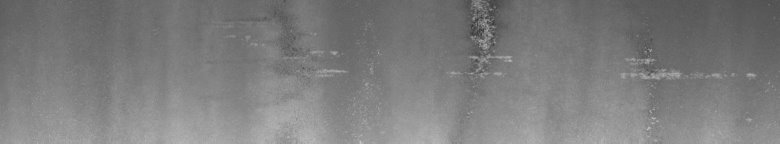hc: (451, 4, 512, 77)
